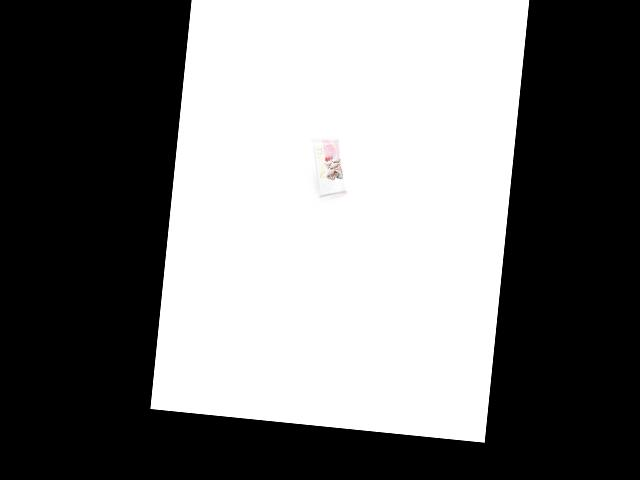chocolate: (305, 137, 353, 199)
